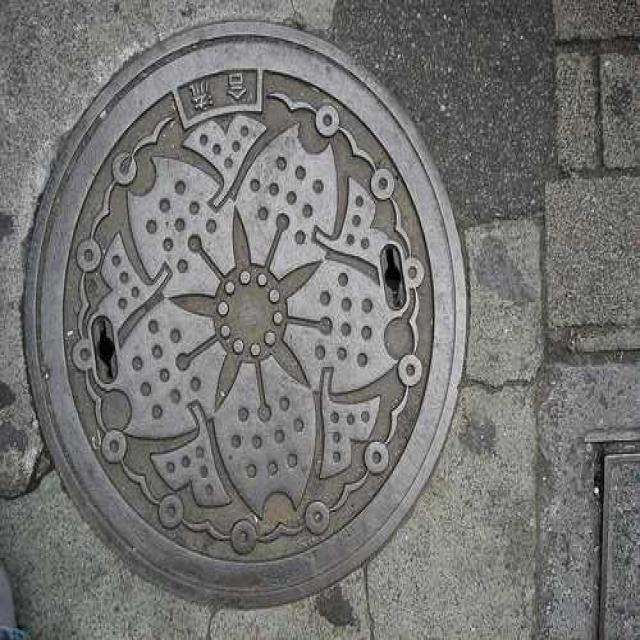manhole: (25, 22, 466, 604)
